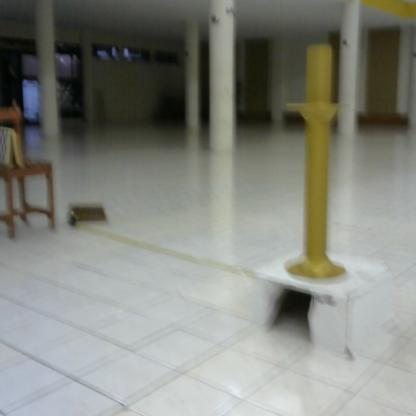pole: (281, 39, 359, 289)
